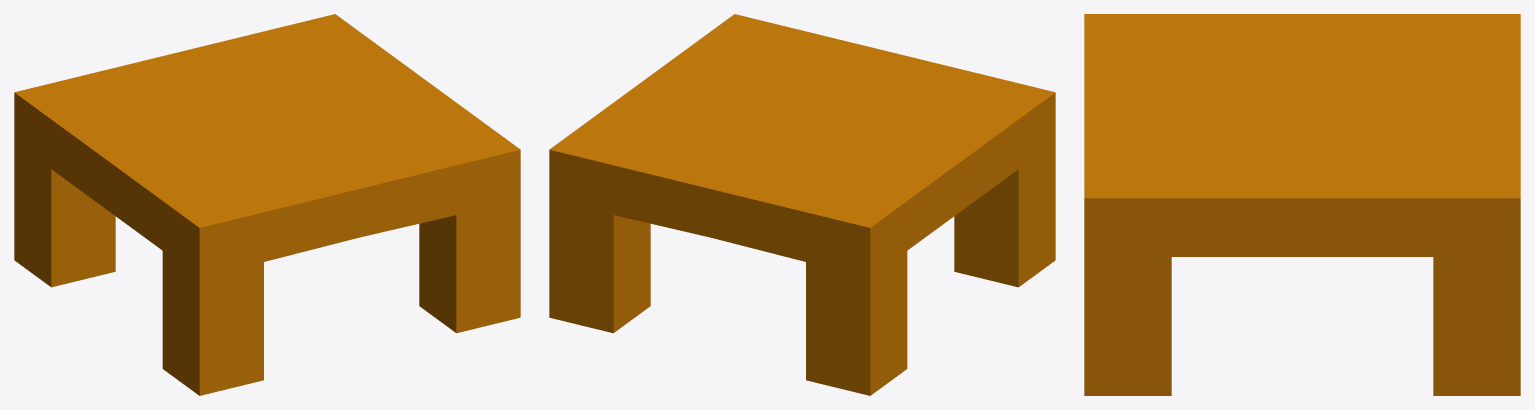
The model's file is Platform.fbx.
3 renders of one model, left to right at view 1: azimuth 30°, elevation 25°; view 2: azimuth 150°, elevation 25°; view 3: azimuth 270°, elevation 25°, orthographic. The views are drawn at different scales.
Parts seen in each view (by area): view 1: Cube; view 2: Cube; view 3: Cube.
Boxes of the visible parts, <box> form: Cube: <box>14,14,520,395</box>; Cube: <box>549,14,1055,395</box>; Cube: <box>1084,14,1520,395</box>.
Bounding box in the file's own units: 200 × 100 × 200.
